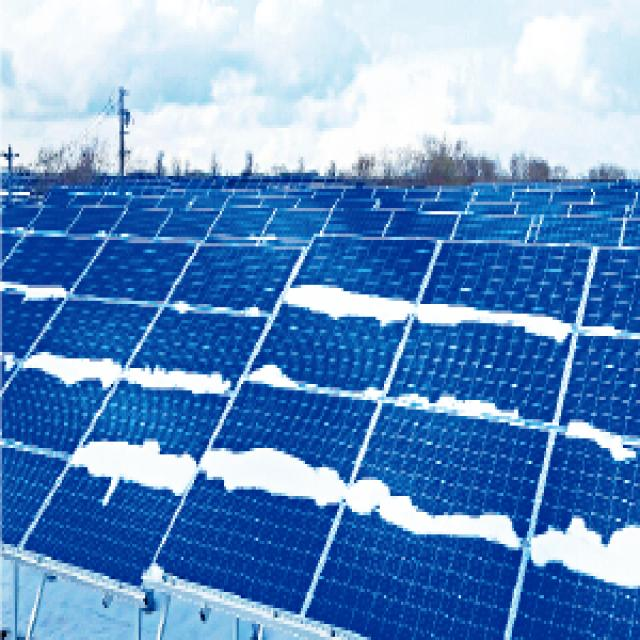panel: (360, 451, 520, 570), (423, 274, 564, 374), (268, 246, 412, 340), (68, 410, 199, 510), (198, 434, 345, 520), (283, 258, 414, 352), (394, 358, 516, 445), (542, 488, 640, 592), (1, 336, 124, 414), (120, 351, 242, 405), (566, 410, 640, 494), (245, 352, 308, 407), (0, 274, 73, 310), (572, 305, 630, 350), (242, 290, 272, 332), (233, 232, 294, 252), (162, 294, 200, 320)
